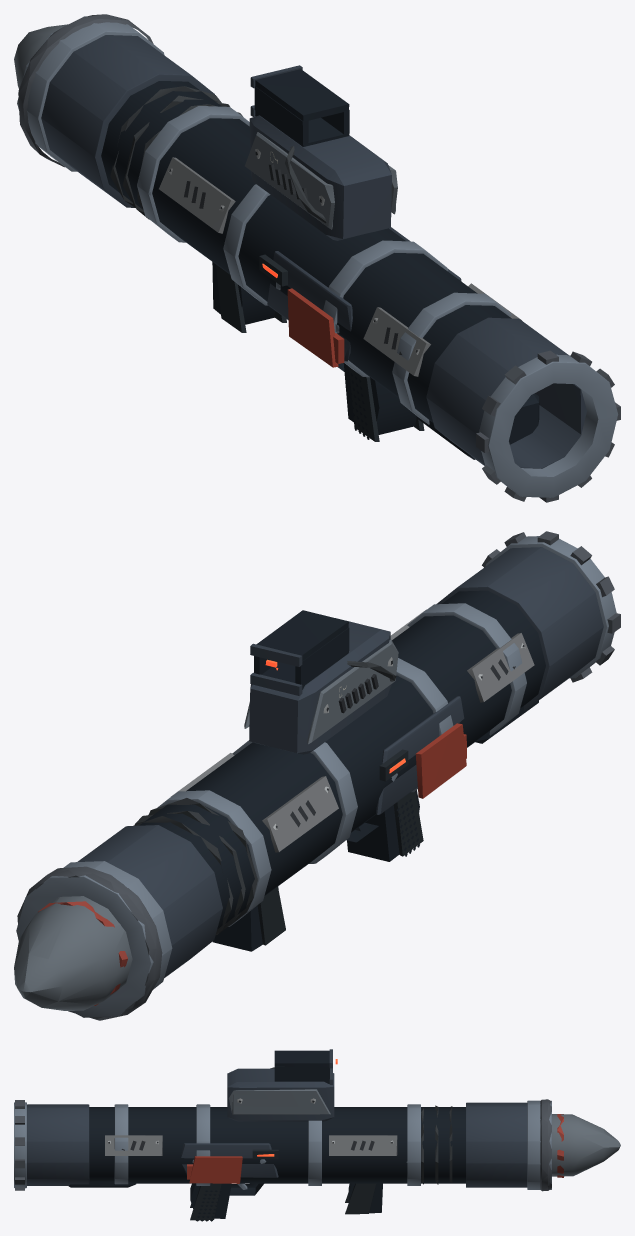
The model's file is bazooka.glb.
3 renders of one model, top to bottom at view 1: azimuth 30°, elevation 25°; view 2: azimuth 150°, elevation 25°; view 3: azimuth 270°, elevation 25°, orthographic. The views are drawn at different scales.
Visible parts, largest first — view 1: body, cap, mag; view 2: body, mag, cap; view 3: body, mag, cap.
Part boxes in pixels (bbox=[...]): body: bbox=[17, 14, 586, 468]; cap: bbox=[476, 350, 620, 502]; mag: bbox=[14, 24, 67, 88]; body: bbox=[16, 547, 603, 1020]; mag: bbox=[14, 896, 132, 1010]; cap: bbox=[482, 531, 620, 682]; body: bbox=[27, 1049, 551, 1221]; mag: bbox=[552, 1114, 620, 1177]; cap: bbox=[14, 1100, 26, 1190].
Bounding box in the file's own units: 0.2621 × 0.4952 × 1.72.
